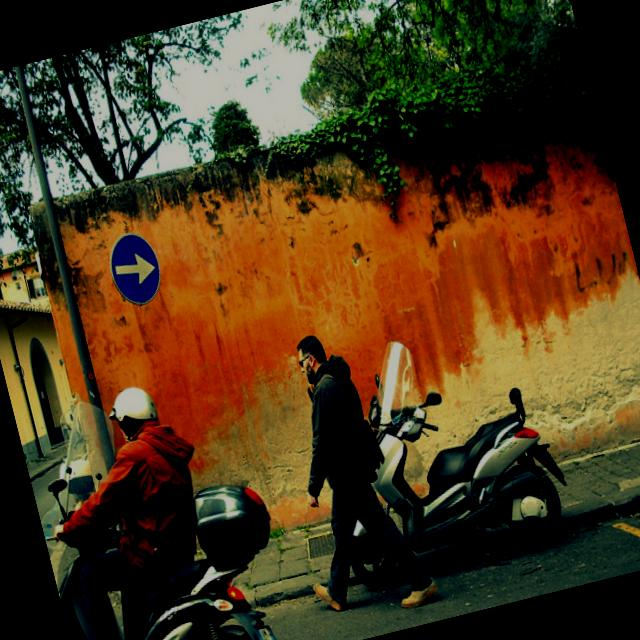Vehicle: (302, 309, 578, 596), (46, 492, 290, 640)
